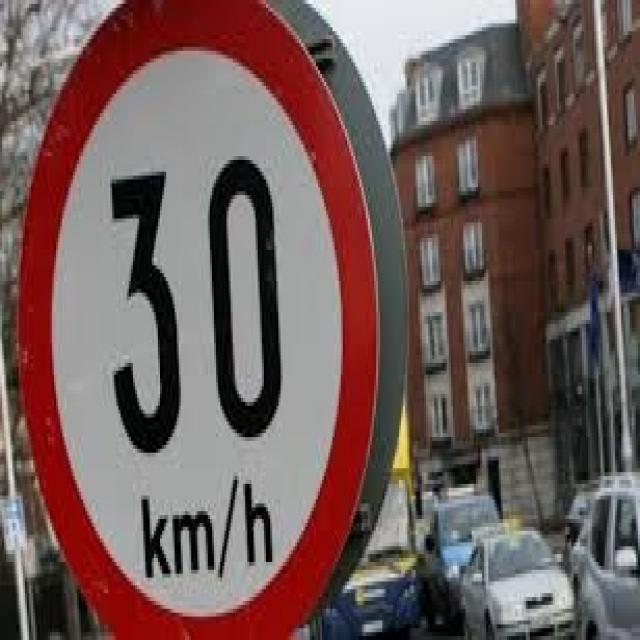speed_limit_30: (12, 0, 382, 640)
